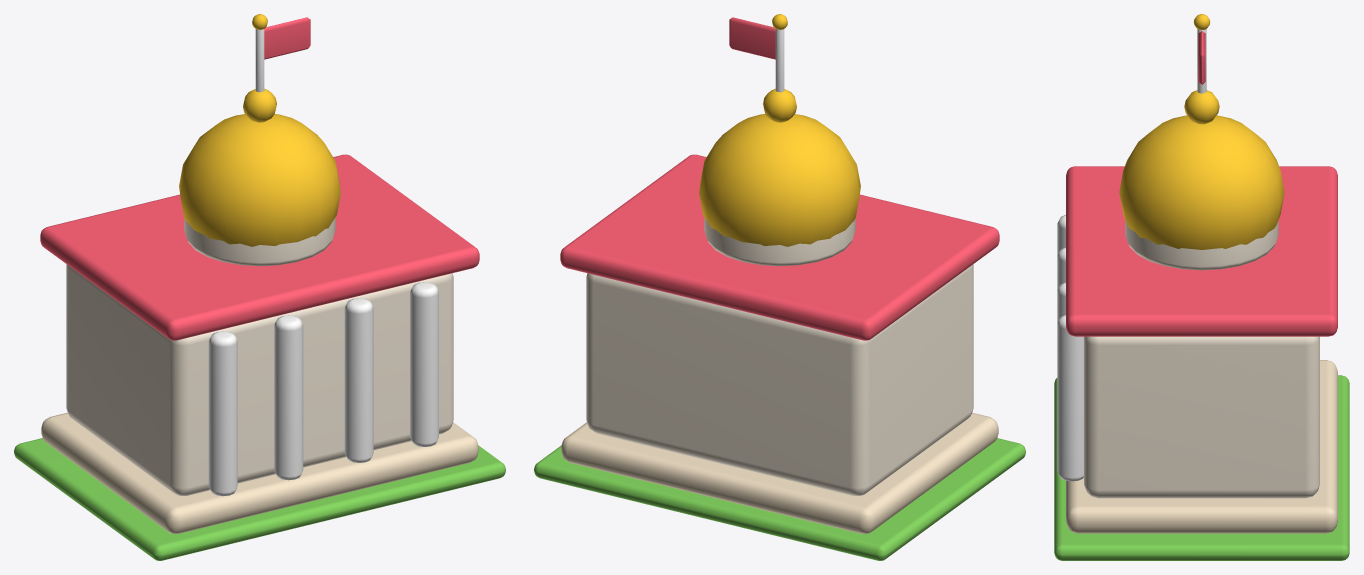
The picture shows the model from 3 angles, left to right: view 1: azimuth 30°, elevation 25°; view 2: azimuth 150°, elevation 25°; view 3: azimuth 270°, elevation 25°; orthographic projection.
Visible parts, largest first — view 1: Cube; view 2: Cube; view 3: Cube.
Part boxes in pixels (x1,y1,x2,y2): Cube: [14, 14, 505, 560]; Cube: [534, 14, 1025, 560]; Cube: [1054, 14, 1349, 560].
Bounding box in the file's own units: 0.7 × 0.862 × 0.5.
